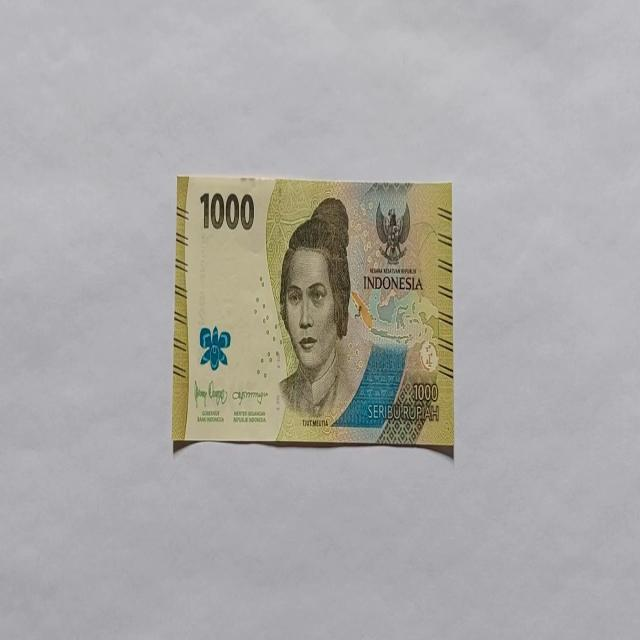seribu rupiah kertas: (172, 173, 454, 454)
